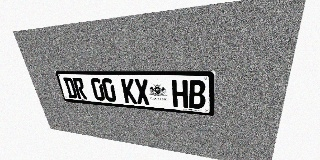0: (101, 78, 117, 102), (90, 78, 105, 101)
B: (188, 80, 206, 109)
D: (63, 77, 78, 99)
H: (171, 80, 188, 108)
K: (121, 79, 137, 104)
R: (72, 78, 87, 100)
X: (134, 79, 150, 105)
